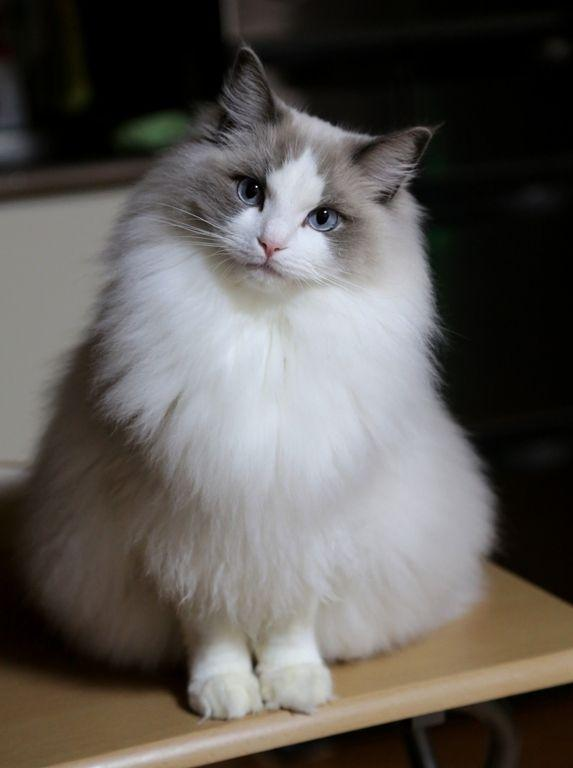ragdoll: (145, 39, 442, 317)
